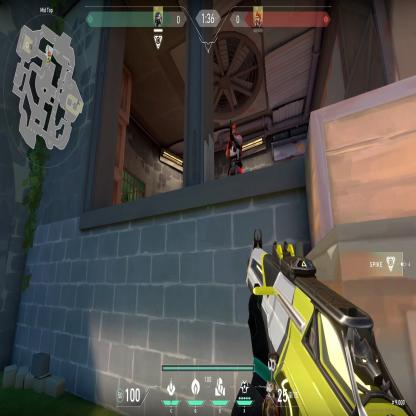enemy: (225, 118, 243, 180)
